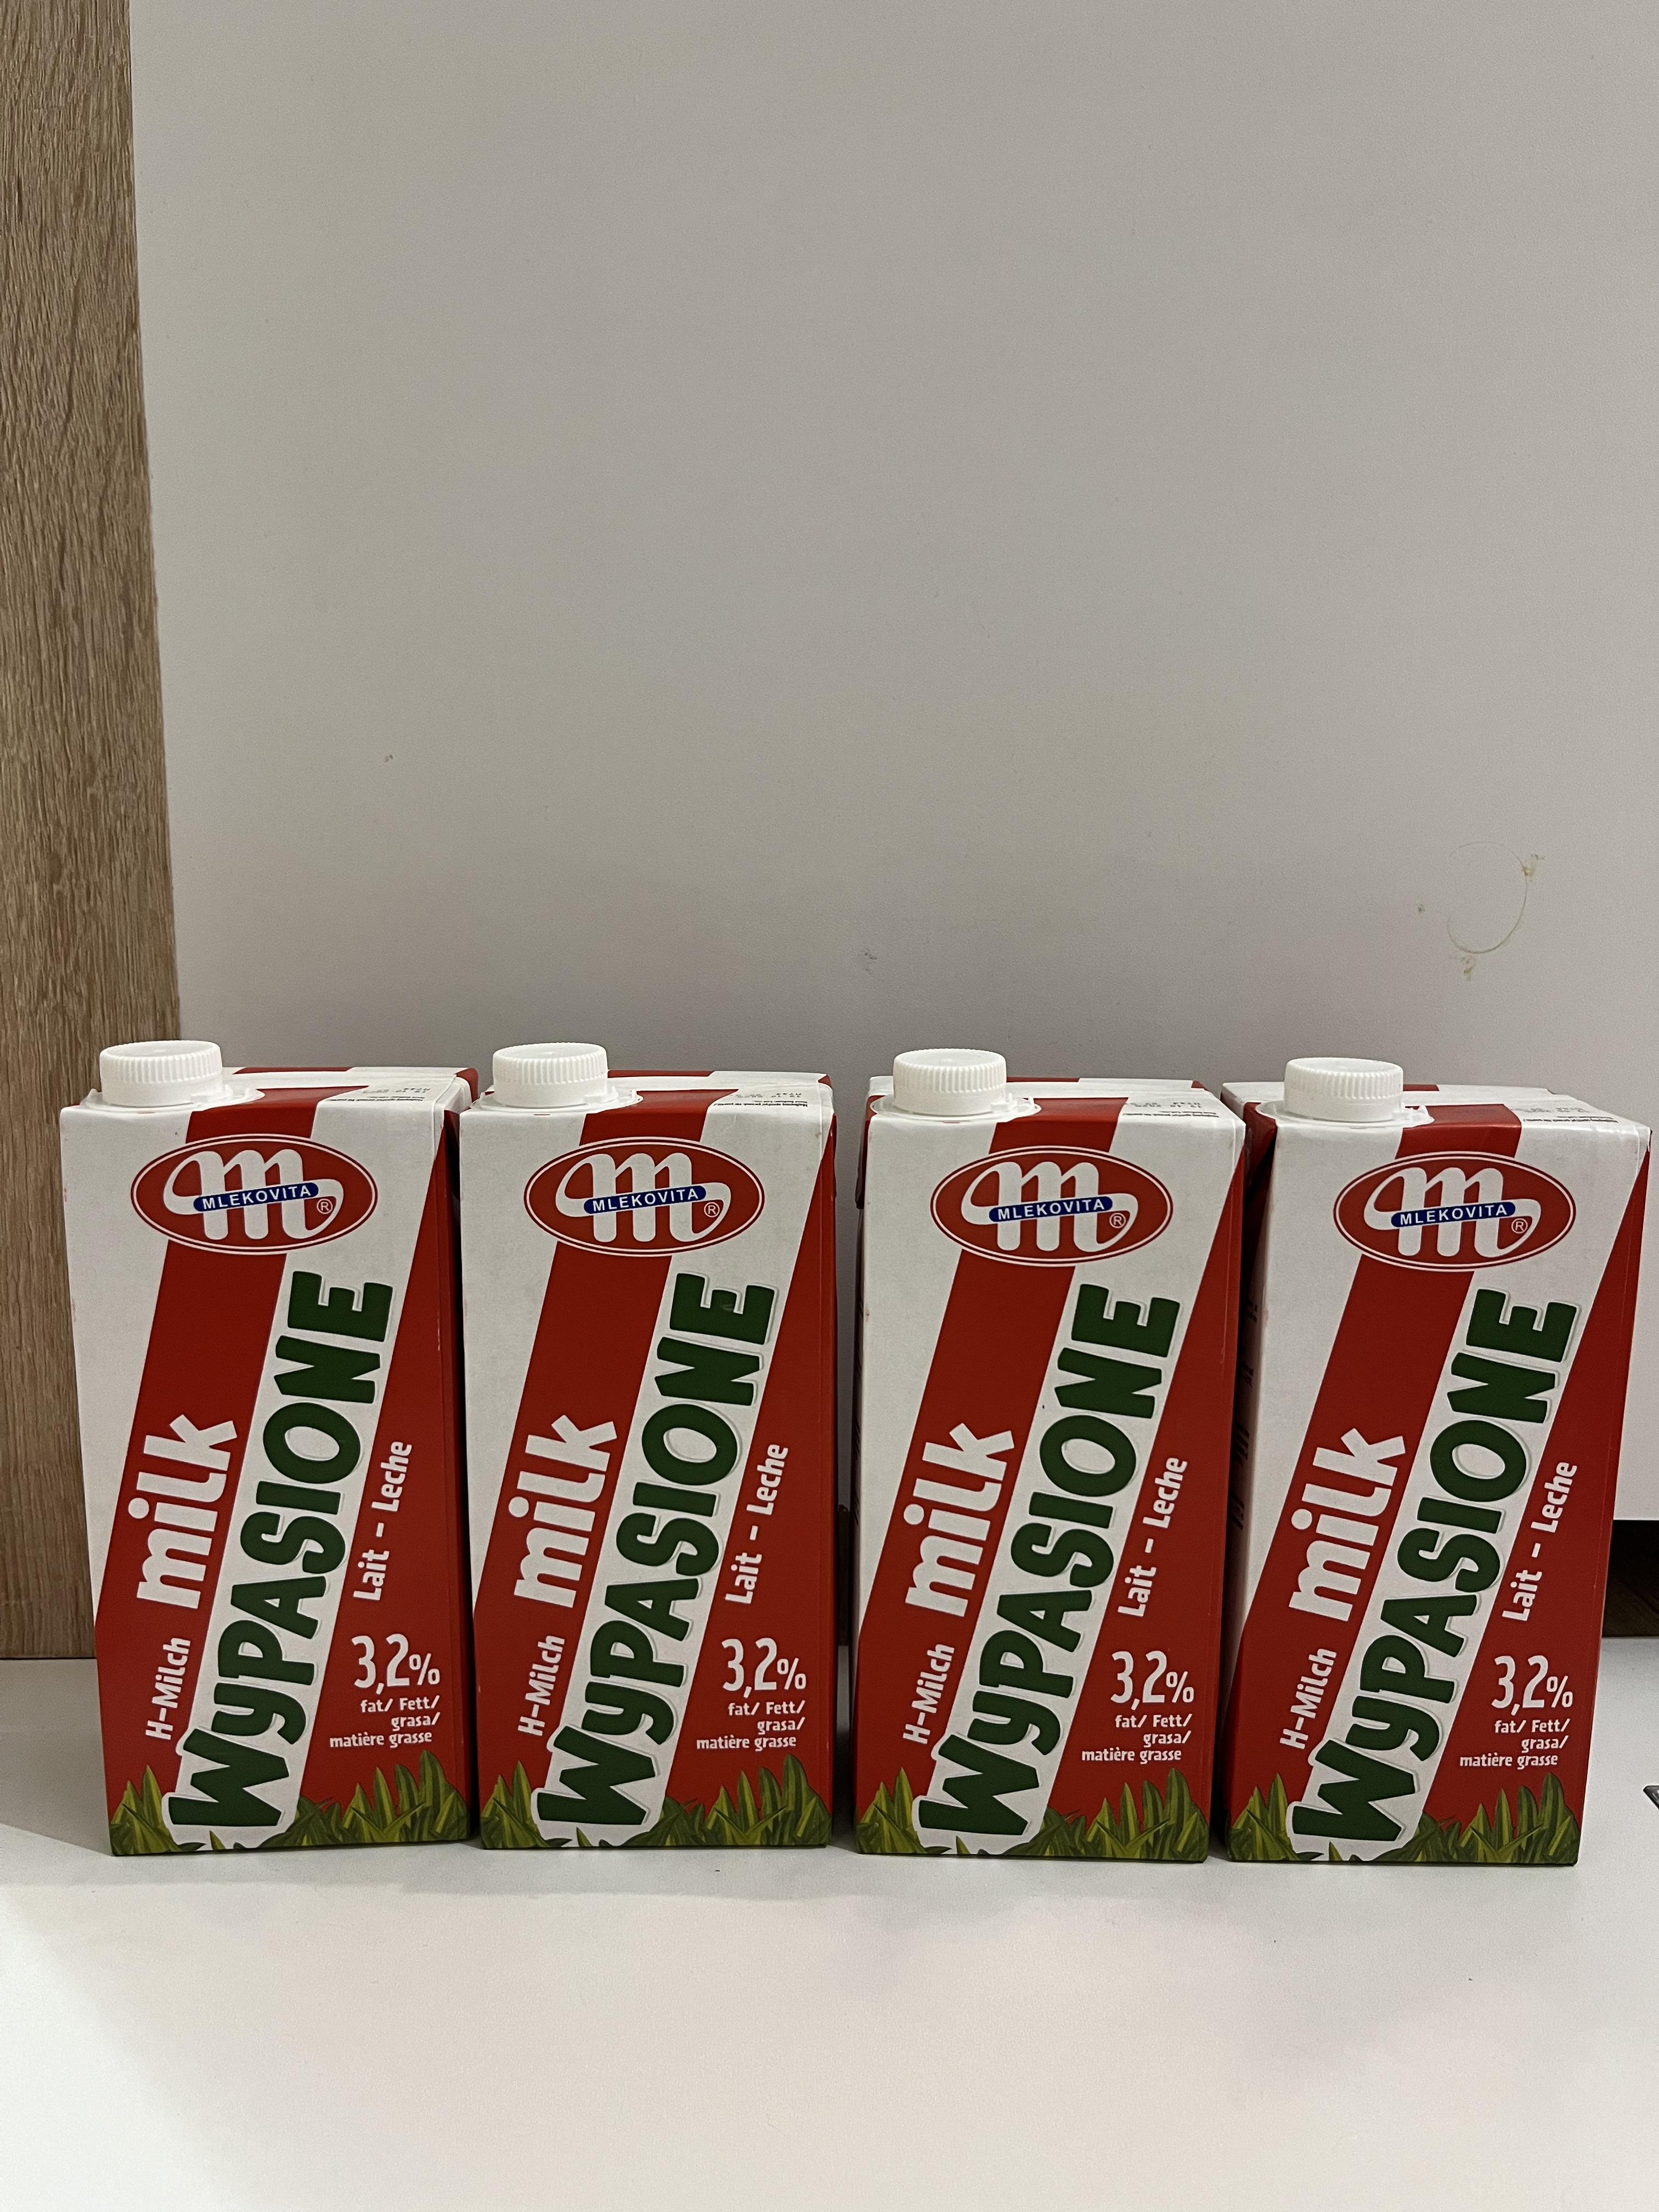Milk: (68, 1069, 477, 1860), (476, 1057, 854, 1858), (1239, 1064, 1595, 1895), (870, 1068, 1234, 1860)
